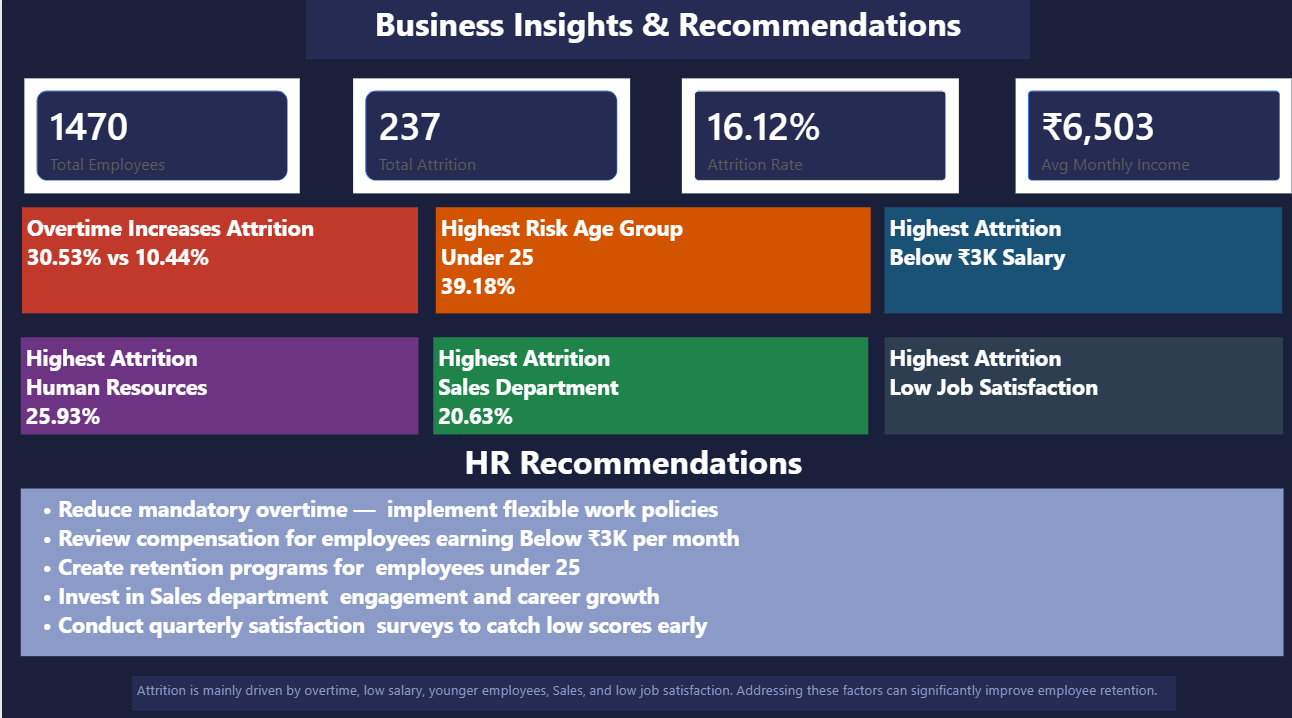

This screenshot's page, from the dashboard's own definition file:
{"tool":"powerbi","page":{"name":"Business Insights","canvas":[1280,720],"ordinal":2},"visuals":[{"type":"textbox","box":[300.4,0,715.4,62.7],"z":0},{"type":"textbox","box":[19.8,208.6,391.4,104.9],"z":1000},{"type":"textbox","box":[428.4,208.6,429.6,104.9],"z":2000},{"type":"textbox","box":[871.6,208.6,392.6,104.9],"z":3000},{"type":"textbox","box":[18.5,337,392.6,96.3],"z":4000},{"type":"textbox","box":[425.9,337,429.6,96.3],"z":5000},{"type":"textbox","box":[871.6,337,393.8,96.3],"z":6000},{"type":"textbox","box":[451.9,433.3,376.5,53.1],"z":7000},{"type":"textbox","box":[18.5,486.4,1246.9,165.4],"z":8000},{"type":"cardVisual","fields":{"Data":["hr_analytics hr_data.Total Employees"]},"box":[17.3,76.5,282.7,123.5],"z":9000},{"type":"cardVisual","fields":{"Data":["hr_analytics hr_data.Total Attrition"]},"box":[342,76.5,284,123.5],"z":10000},{"type":"cardVisual","fields":{"Data":["hr_analytics hr_data.Attrition Rate"]},"box":[666.7,76.5,284,123.5],"z":11000},{"type":"cardVisual","fields":{"Data":["hr_analytics hr_data.Avg Monthly Income Display"]},"box":[996.3,76.5,284,123.5],"z":12000},{"type":"textbox","box":[128.4,671.6,1030.9,34.6],"z":13000}]}

Visuals, with their boxes in screenshot pixels (x1, y1, x2, y2), scaled from the page's 1280x720 canvas onto the 1292x718 screenshot:
textbox: locate(303, 0, 1025, 63)
textbox: locate(20, 208, 415, 313)
textbox: locate(432, 208, 866, 313)
textbox: locate(880, 208, 1276, 313)
textbox: locate(19, 336, 415, 432)
textbox: locate(430, 336, 864, 432)
textbox: locate(880, 336, 1277, 432)
textbox: locate(456, 432, 836, 485)
textbox: locate(19, 485, 1277, 650)
cardVisual - hr_analytics hr_data.Total Employees: locate(17, 76, 303, 199)
cardVisual - hr_analytics hr_data.Total Attrition: locate(345, 76, 632, 199)
cardVisual - hr_analytics hr_data.Attrition Rate: locate(673, 76, 960, 199)
cardVisual - hr_analytics hr_data.Avg Monthly Income Display: locate(1006, 76, 1291, 199)
textbox: locate(130, 670, 1170, 704)
